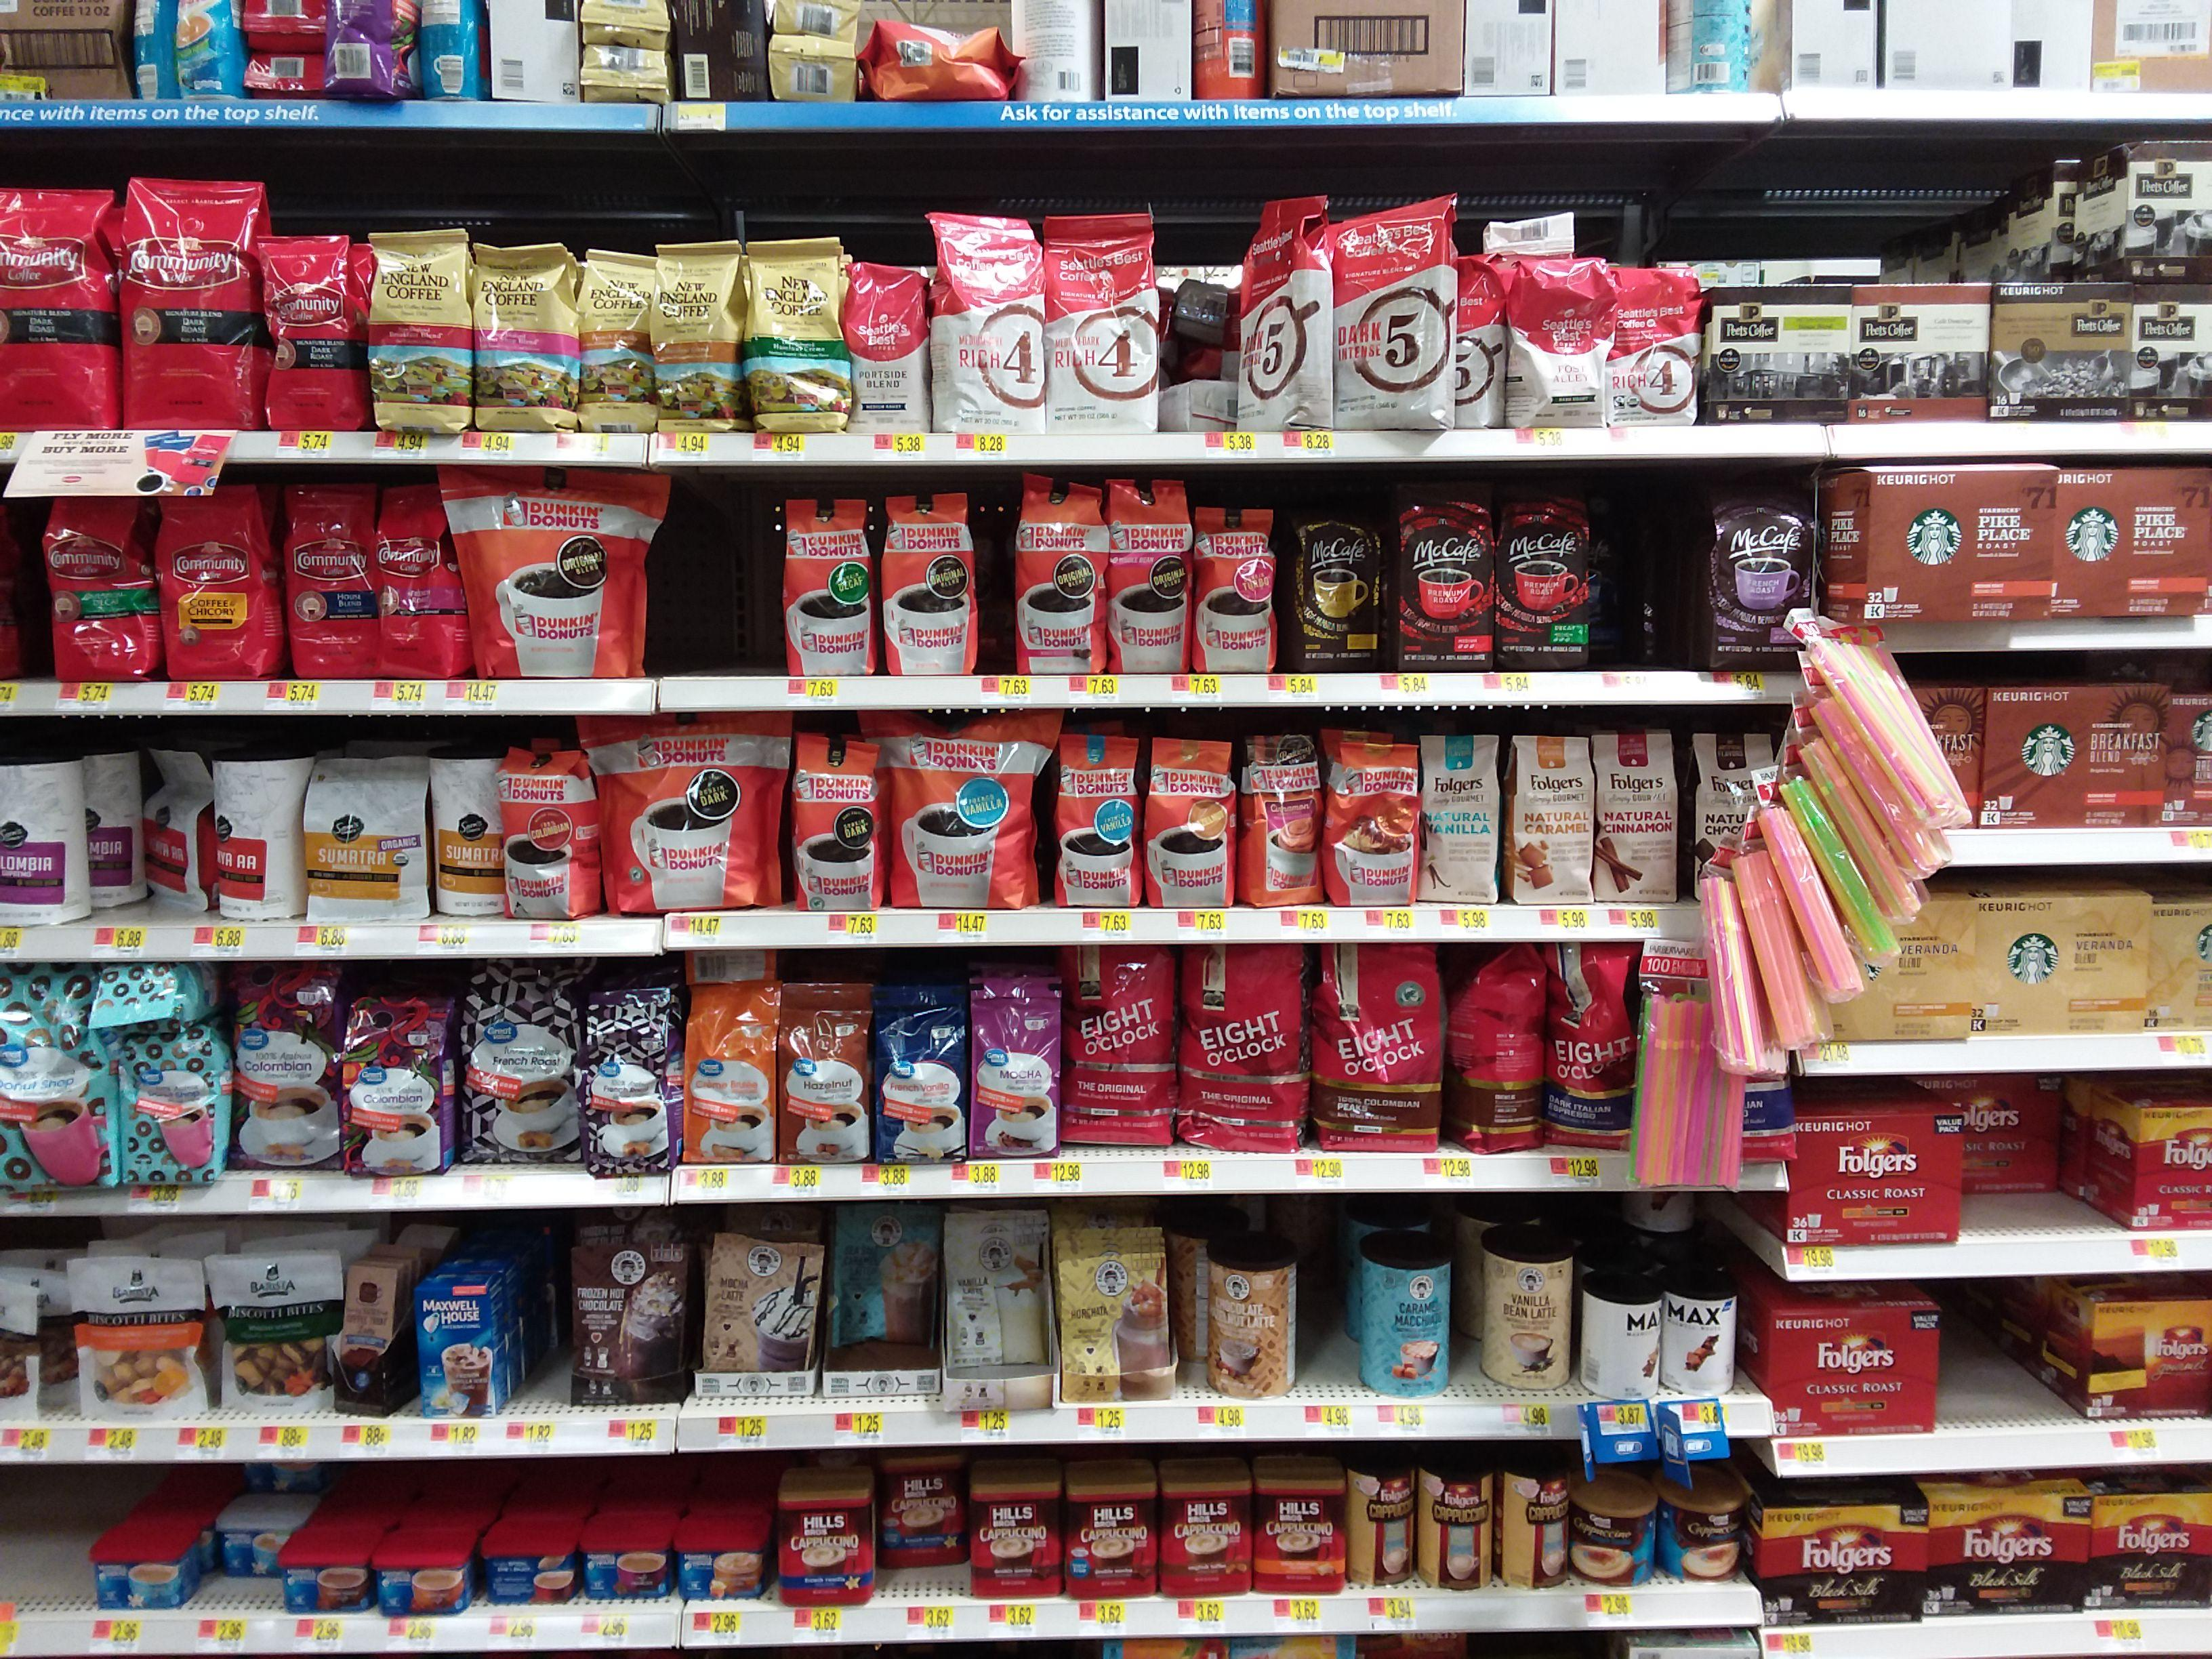empty: (657, 491, 782, 683), (1594, 504, 1707, 673), (1939, 1298, 2066, 1420), (1298, 1243, 1364, 1396)
